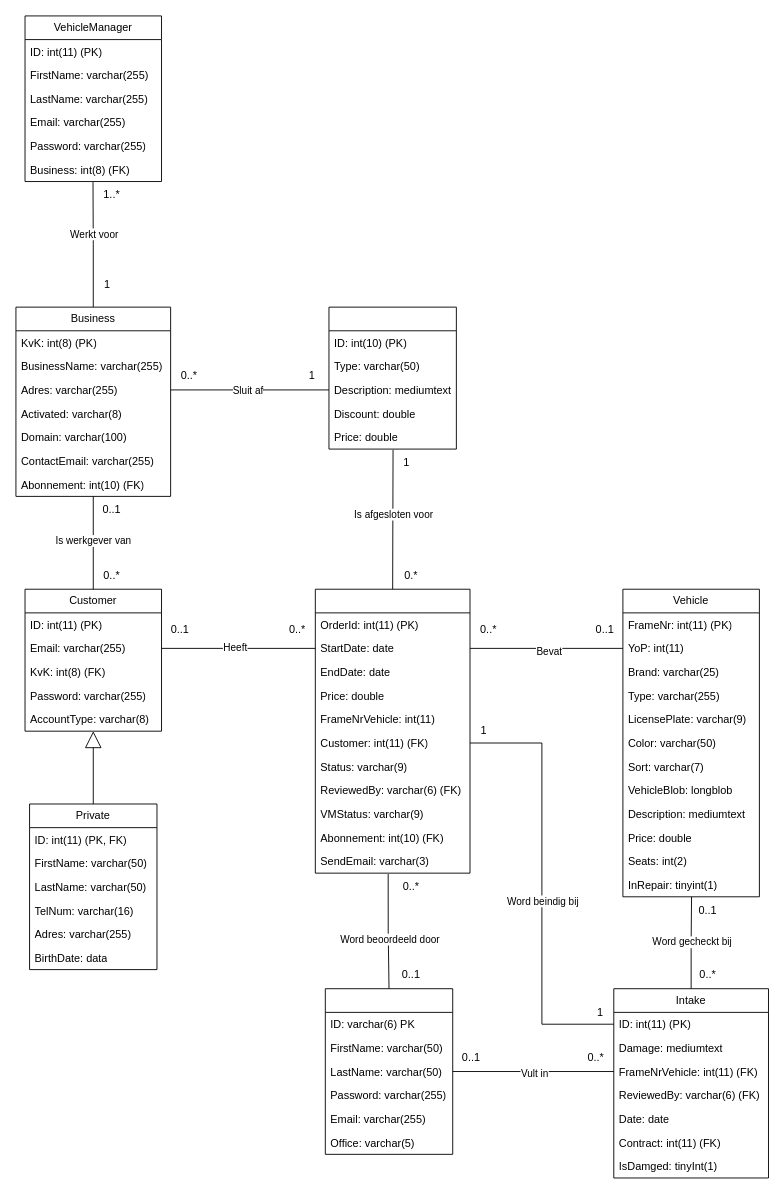
Image size: 784x1197. Some labels were removed from this diagram. The shapes that lost their labels are listed below. From the top down, each one's box as (x1, y1, x2, y2) in pixels, then its label:
(328, 306, 456, 449): Abonnement
(314, 588, 470, 873): Contract
(324, 988, 453, 1154): Staff
